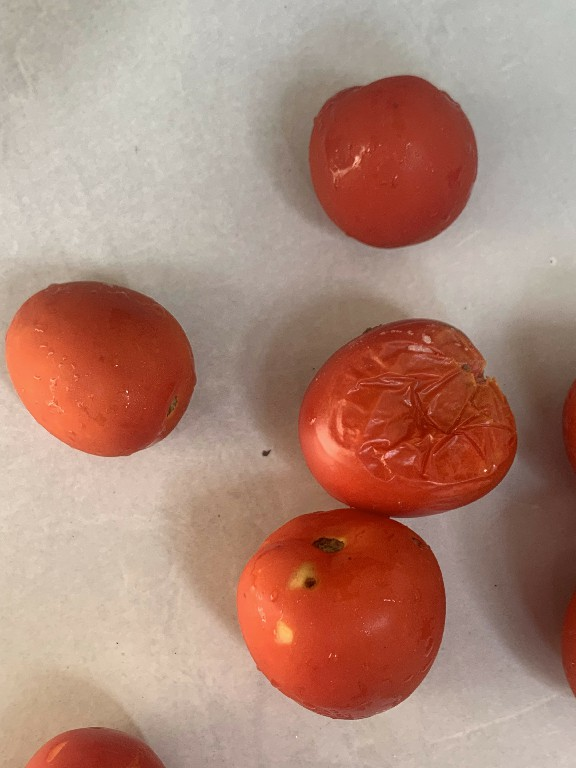NG: (279, 303, 531, 509), (230, 505, 453, 731)
OK: (0, 262, 208, 476), (282, 54, 487, 254)
